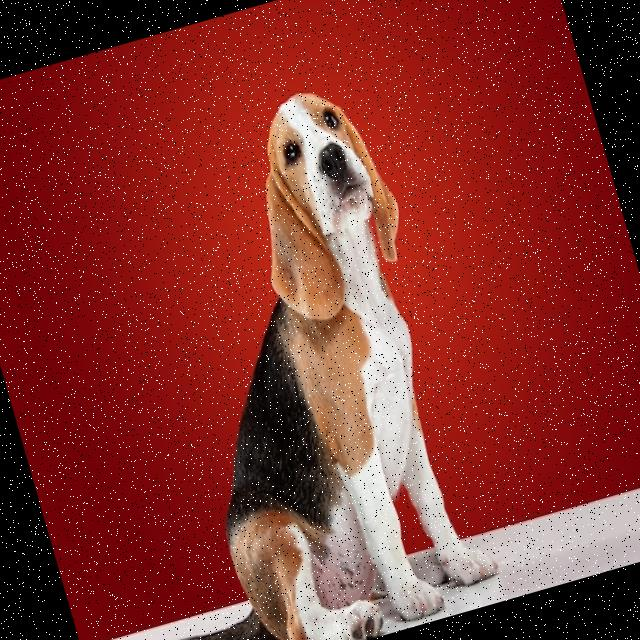Dog: (3, 72, 510, 640)
